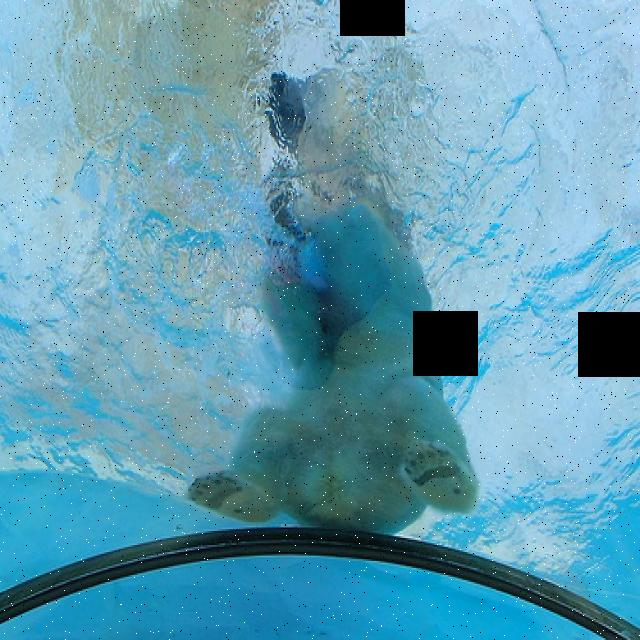Bear: (194, 69, 488, 570)
